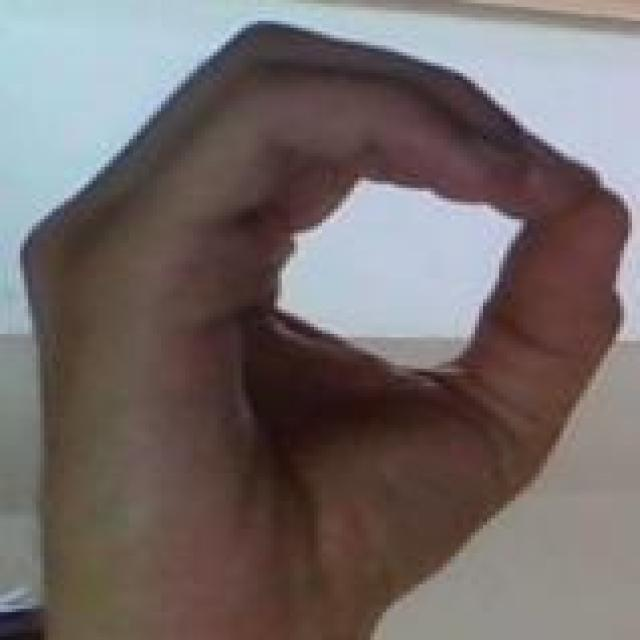O: (8, 5, 640, 640)
